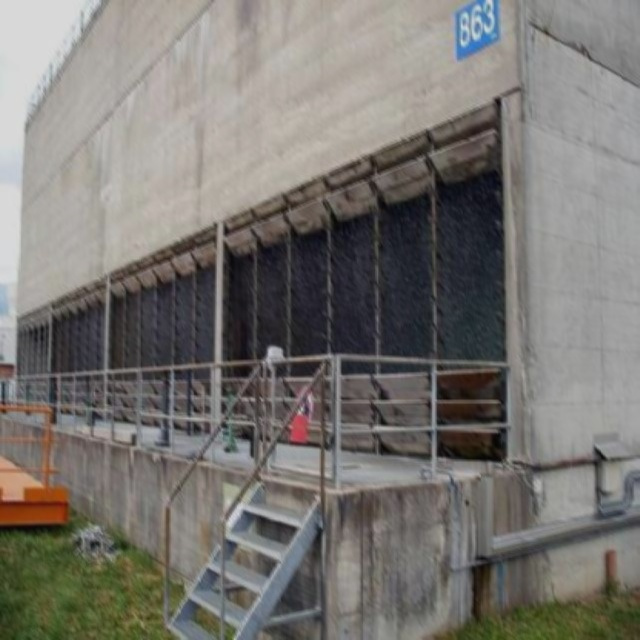stair: (164, 480, 321, 638)
